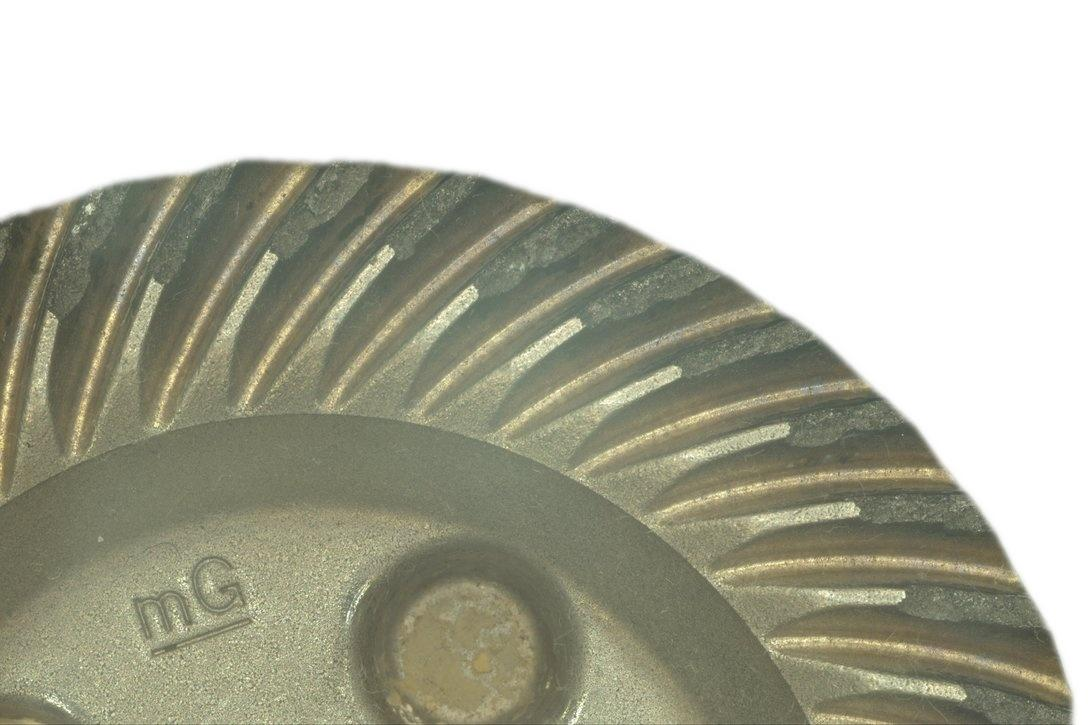defect: (479, 212, 602, 294), (49, 188, 126, 314), (152, 166, 232, 281), (583, 257, 719, 323), (272, 163, 368, 256), (383, 176, 478, 258), (681, 322, 814, 374), (899, 586, 1041, 626), (858, 492, 987, 532), (791, 401, 905, 446), (965, 686, 1070, 724), (0, 223, 9, 262)
